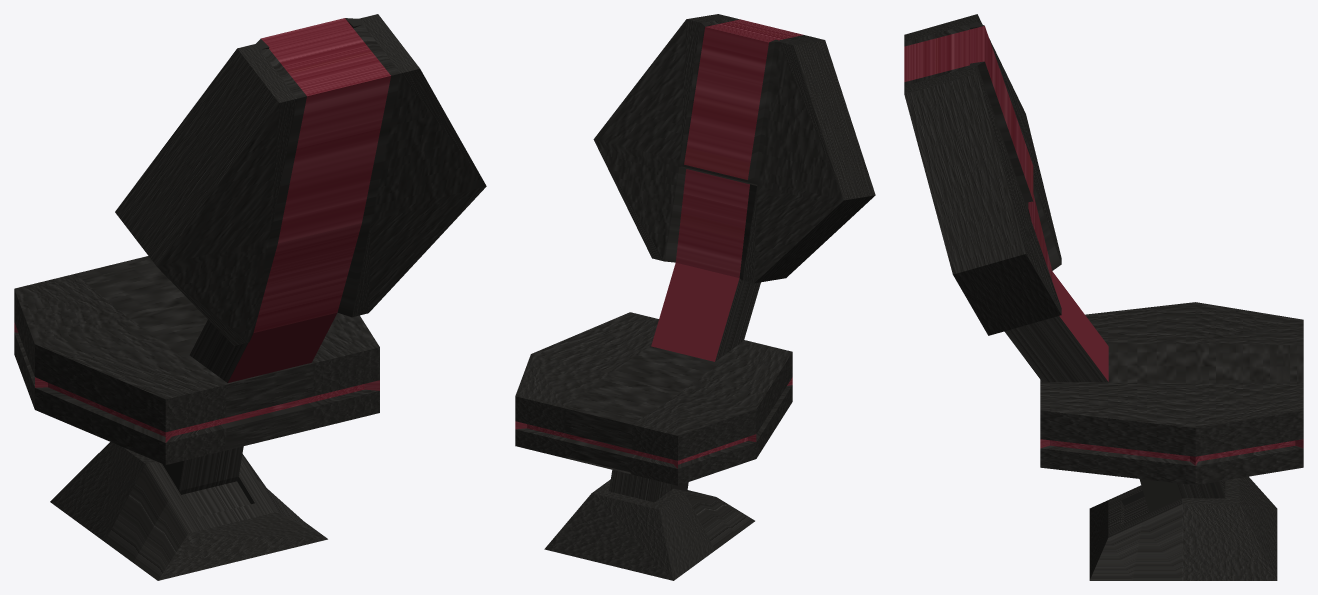
The model's file is Silla1Negra.fbx.
3 renders of one model, left to right at view 1: azimuth 30°, elevation 25°; view 2: azimuth 150°, elevation 25°; view 3: azimuth 270°, elevation 25°, orthographic. The views are drawn at different scales.
Parts seen in each view (by area): view 1: Cube.008; view 2: Cube.008; view 3: Cube.008.
Part boxes in pixels (x1=…): Cube.008: x1=14, y1=14, x2=486, y2=580; Cube.008: x1=515, y1=14, x2=875, y2=580; Cube.008: x1=904, y1=14, x2=1303, y2=580.
Bounding box in the file's own units: 133 × 223 × 161.
Materials: 2 (2 with a texture image).
